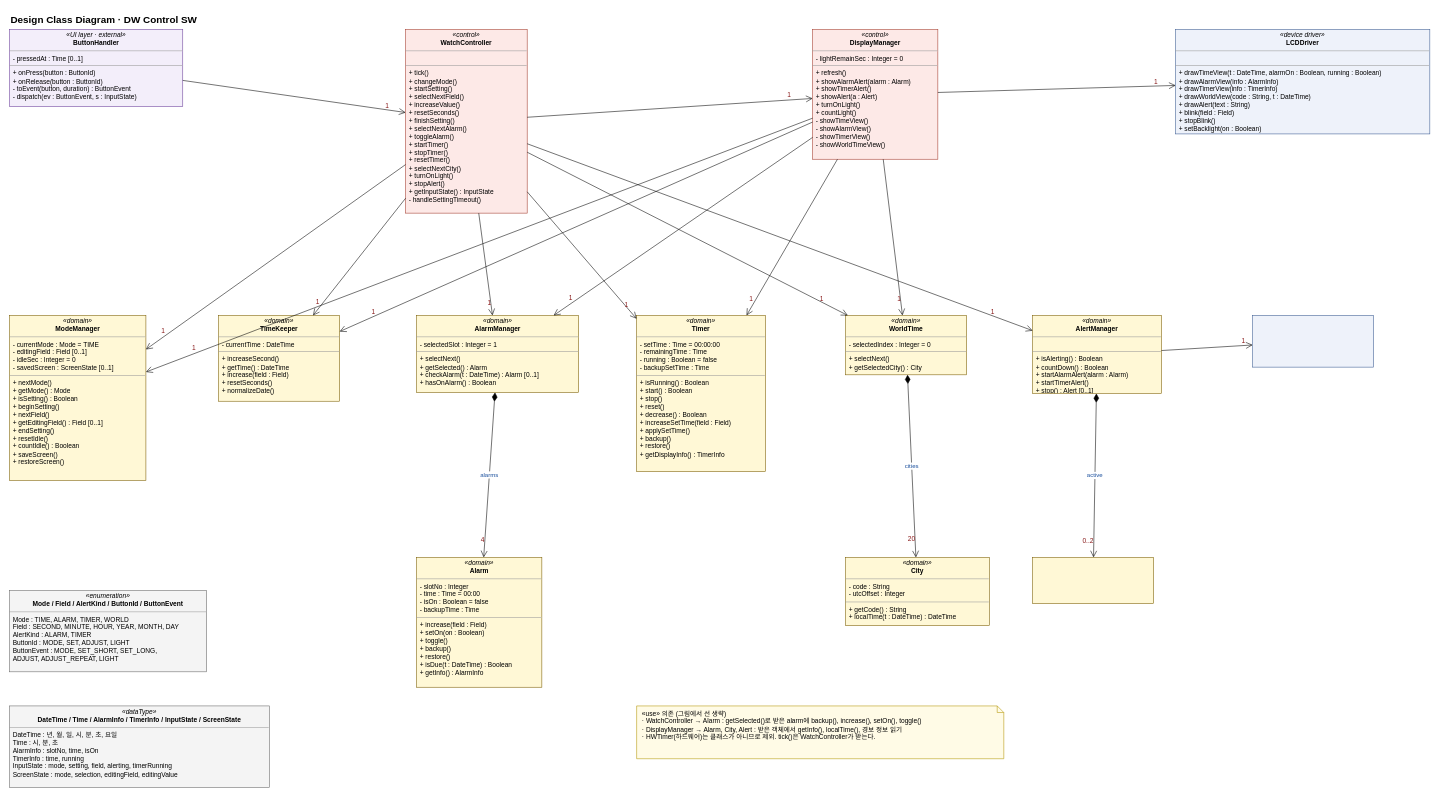
The diagram is 1440 pixels wide and 797 high, and some of its shapes have lost their labels. The shapes that lost their labels are listed below. From the top down, each one's centre as x and y in pixels, then its label:
point (1313, 341): «device driver» BuzzerDriver + on() + off()
point (1093, 580): «domain» Alert - kind : AlertKind - remainSec : Integer
